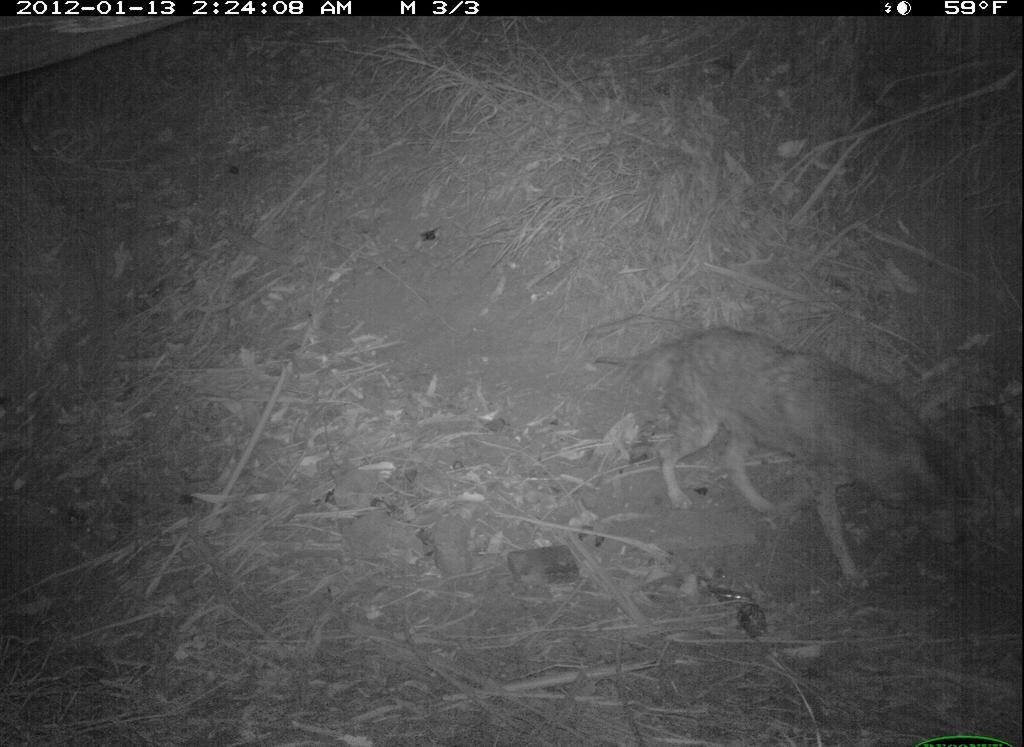coyote: (598, 319, 980, 600)
